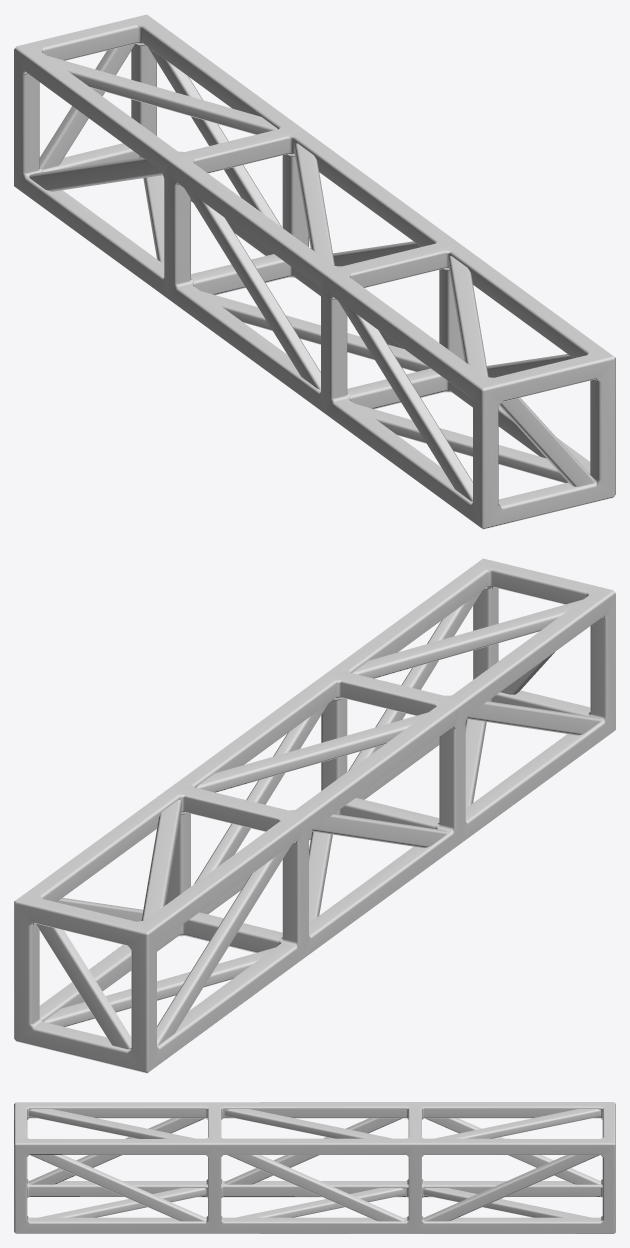
Rendered from truss_002.fbx.
3 renders of one model, top to bottom at view 1: azimuth 30°, elevation 25°; view 2: azimuth 150°, elevation 25°; view 3: azimuth 270°, elevation 25°, orthographic. The views are drawn at different scales.
Visible parts, largest first — view 1: truss_002; view 2: truss_002; view 3: truss_002.
Boxes of the visible parts, x1,y1,x2,y2 form: truss_002: (14, 14, 615, 529); truss_002: (14, 558, 615, 1073); truss_002: (14, 1102, 615, 1233).
Bounding box in the file's own units: 500 × 3000 × 500.
